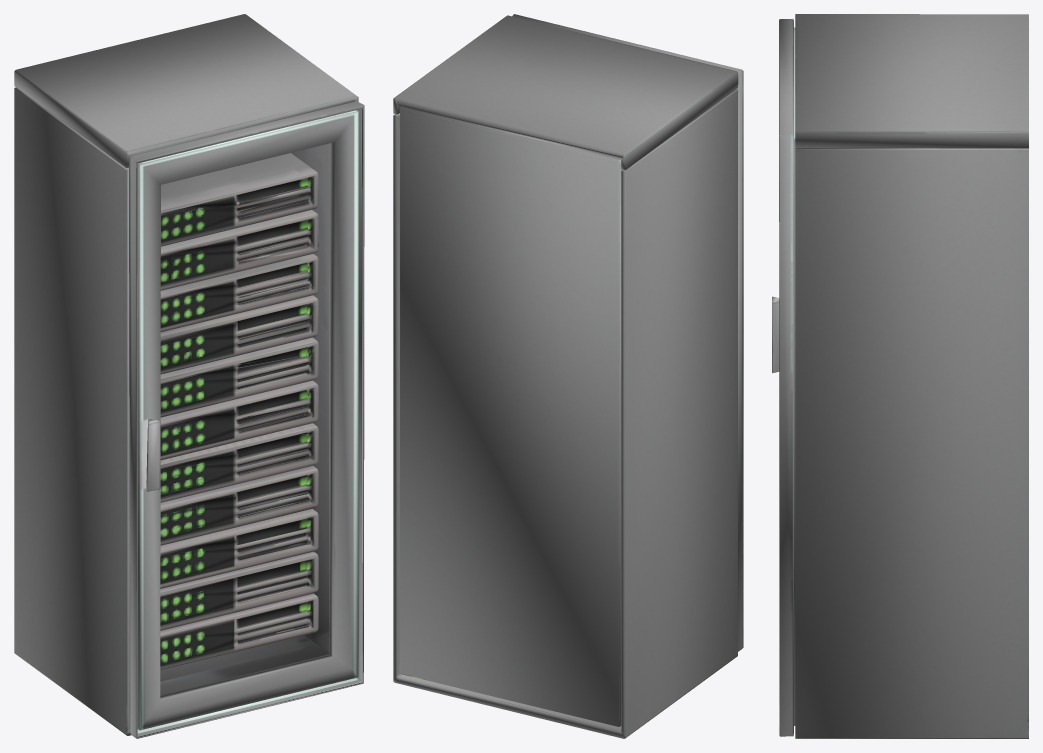
Rendered from server-cabinet.raw.glb.
3 renders of one model, left to right at view 1: azimuth 30°, elevation 25°; view 2: azimuth 150°, elevation 25°; view 3: azimuth 270°, elevation 25°, orthographic. The views are drawn at different scales.
Size of the model in its own units: 0.3955 by 0.9507 by 0.3633.
1 material, 1 textured.
